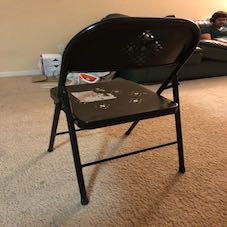chair: (33, 15, 198, 203)
